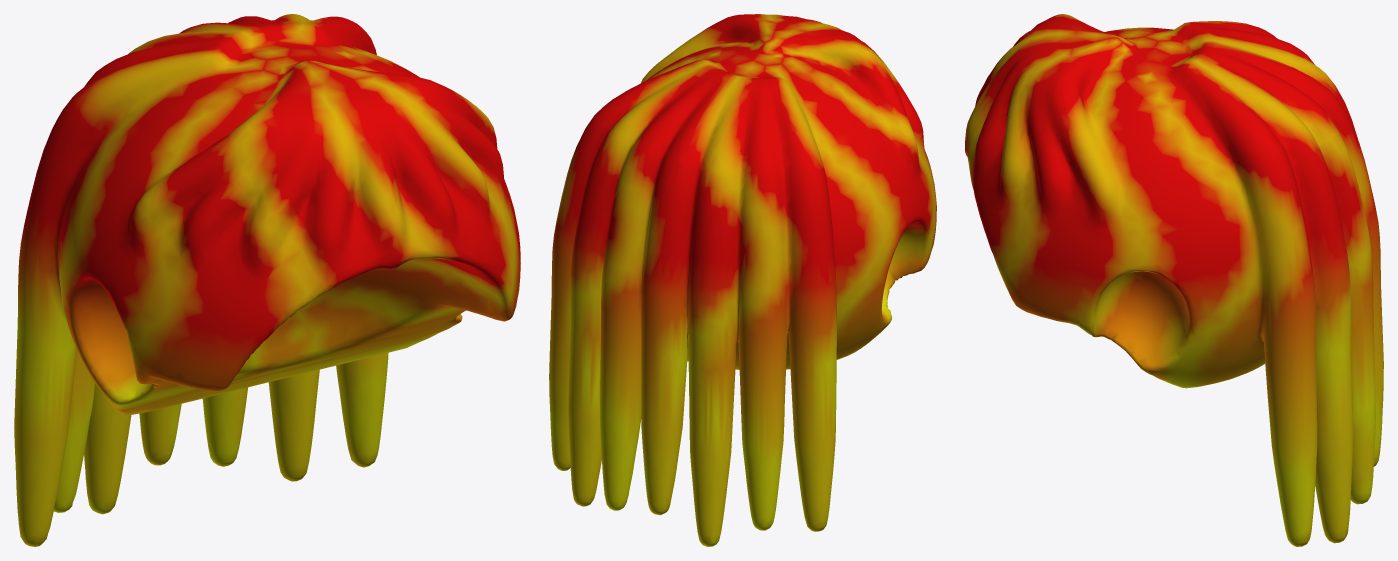
The model's file is mullet.glb.
The picture shows the model from 3 angles, left to right: view 1: azimuth 30°, elevation 25°; view 2: azimuth 150°, elevation 25°; view 3: azimuth 270°, elevation 25°; orthographic projection. The views are drawn at different scales.
Visible parts, largest first — view 1: part; view 2: part; view 3: part.
Part boxes in pixels (x1,y1,x2,y2): part: (14,14,520,546); part: (549,14,936,546); part: (965,14,1383,546).
Bounding box in the file's own units: 2.12 × 2.8 × 2.32.
